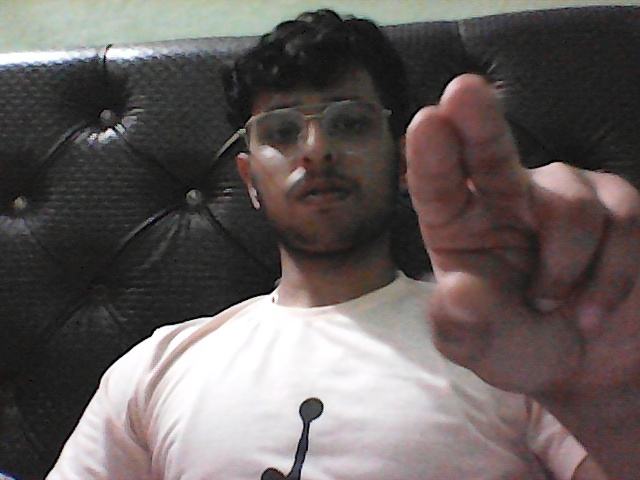no: (359, 65, 640, 428)
